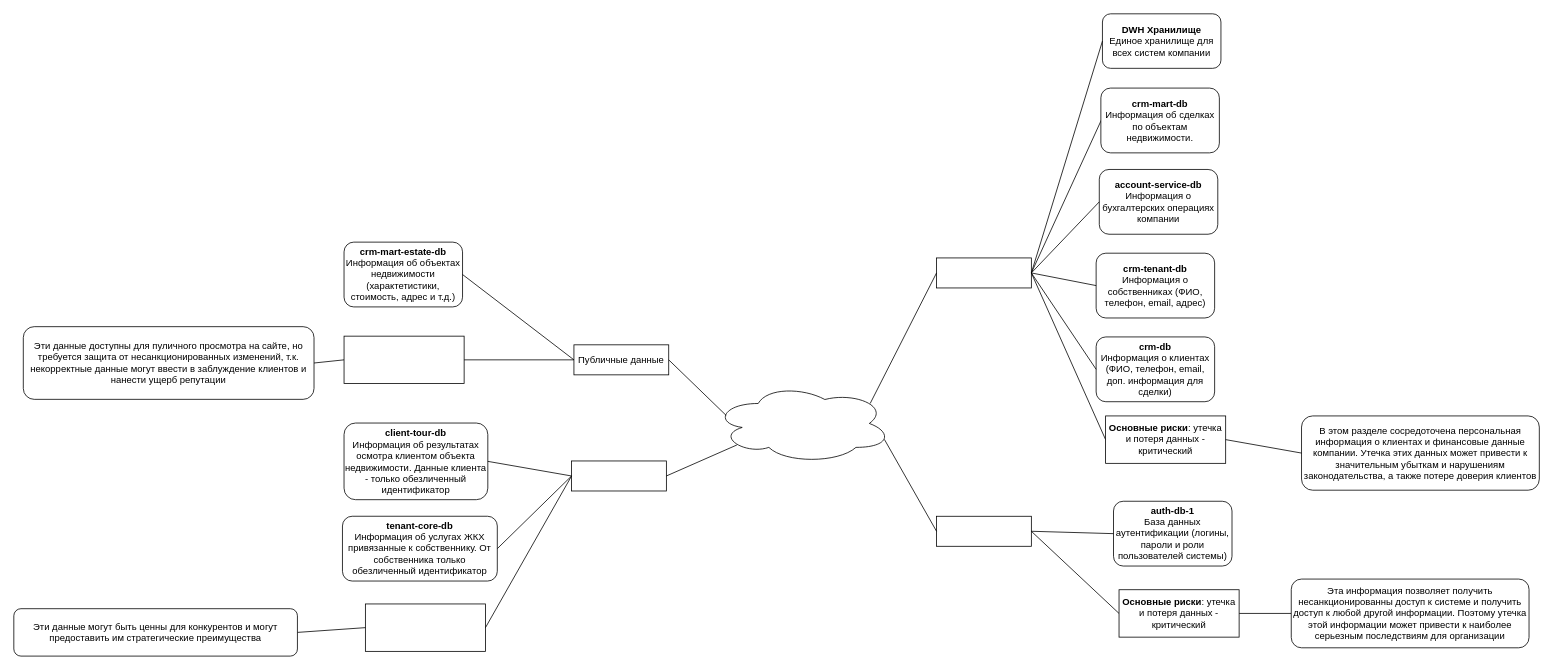
The diagram is 1553 pixels wide and 670 high, and some of its shapes have lost their labels. Here are the shapes that lost their labels. From the top down, the centre of each, then its label:
point (983, 272): Конфиденциальные данные
point (403, 359): Основные риски : искажение или потеря данных - значительный
point (802, 423): Безопасность данных
point (618, 475): Внутренние данные
point (983, 530): Секретные данные
point (425, 627): Основные риски : утечка и обесценивание данных - значительный
